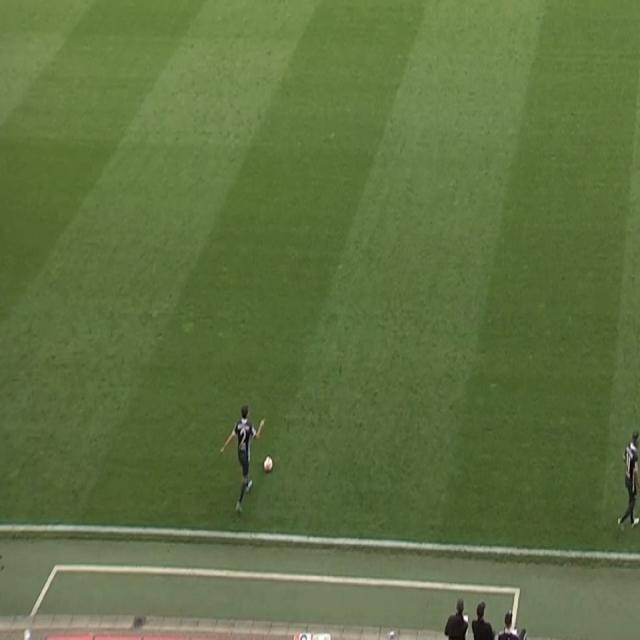ball: (263, 455, 273, 474)
